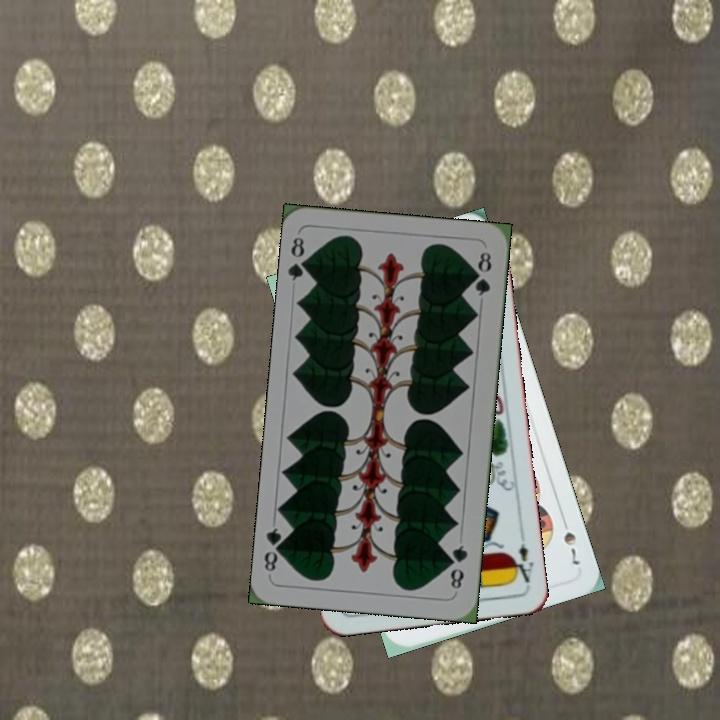EA: (507, 540, 536, 586)
G8: (285, 233, 314, 283), (445, 541, 471, 592)
S7: (557, 512, 583, 568)
